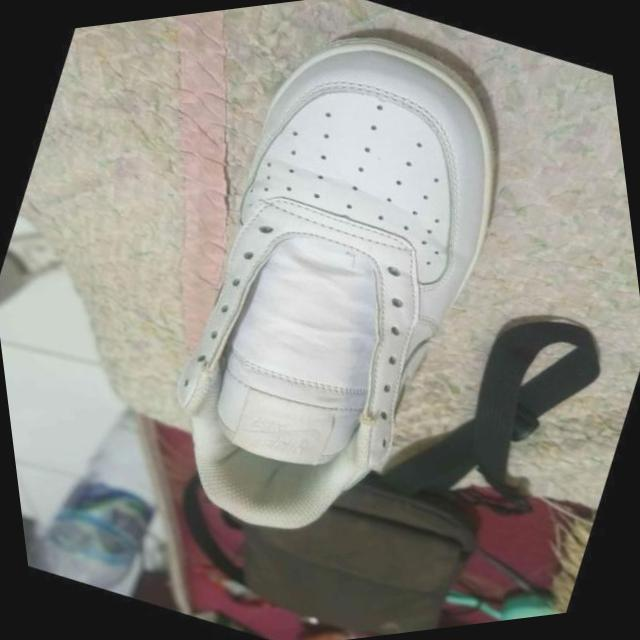nike_fake_airforce: (73, 0, 596, 595)
